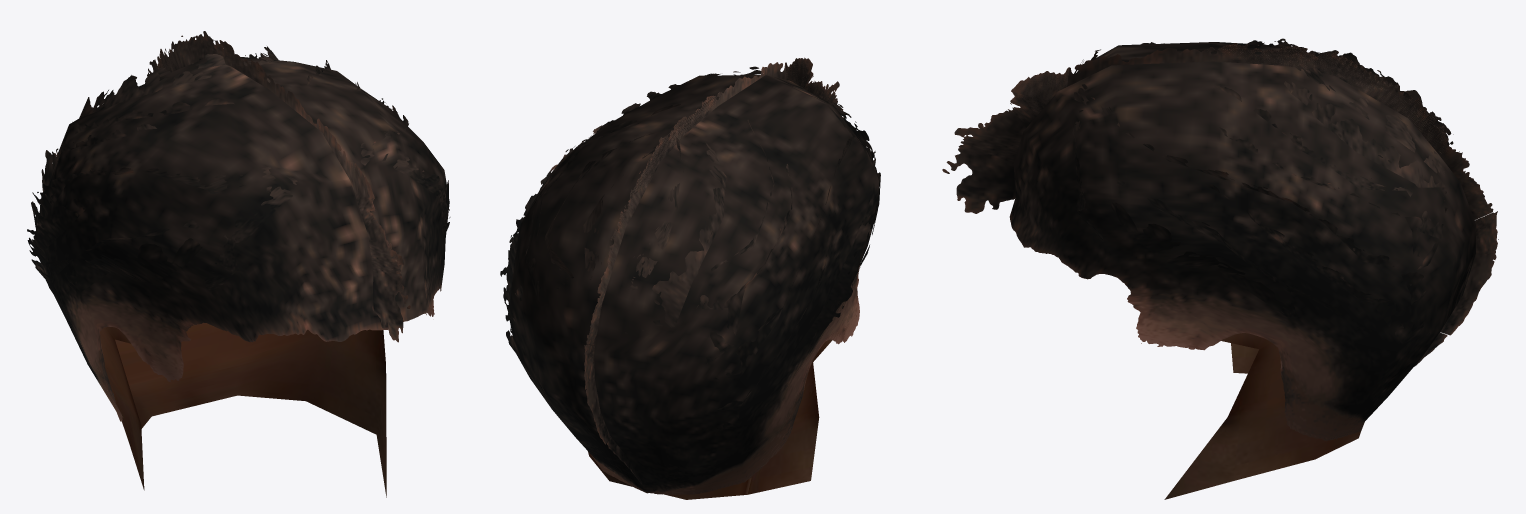
File: esp-yamal.glb
3 renders of one model, left to right at view 1: azimuth 30°, elevation 25°; view 2: azimuth 150°, elevation 25°; view 3: azimuth 270°, elevation 25°, orthographic. The views are drawn at different scales.
Parts seen in each view (by area): view 1: hair; view 2: hair; view 3: hair.
Boxes of the visible parts, bbox=[...] form: hair: bbox=[27, 31, 450, 497]; hair: bbox=[500, 57, 880, 499]; hair: bbox=[942, 38, 1498, 499].
Size of the model in its own units: 0.1881 by 0.2263 by 0.2753.
Materials: 2 (2 with a texture image).
